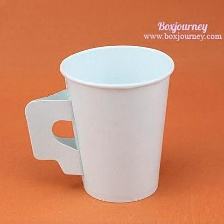paper_cup: (16, 40, 178, 207)
